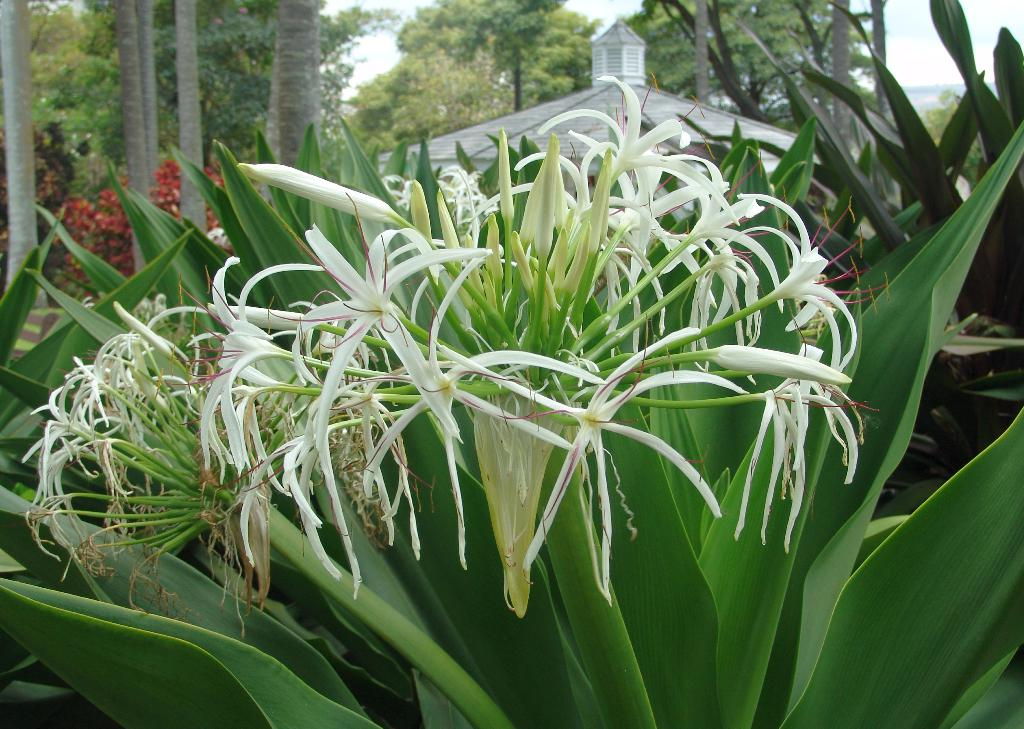Tree: (0, 0, 891, 307)
